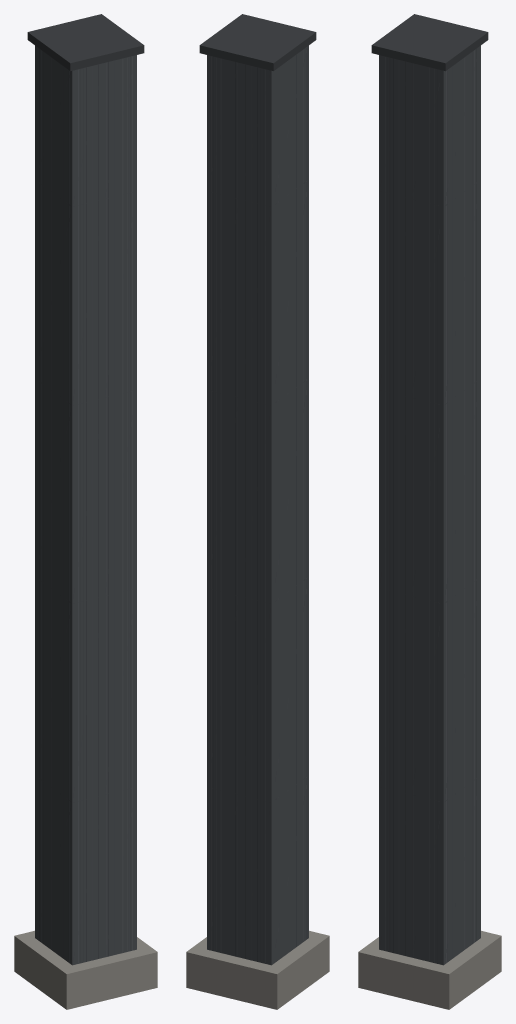
Rendered from MinidoracatKnoxPass_gatepost_B.glb.
3 renders of one model, left to right at view 1: azimuth 30°, elevation 25°; view 2: azimuth 150°, elevation 25°; view 3: azimuth 330°, elevation 25°, orthographic.
Parts seen in each view (by area): view 1: MinidoracatKnoxPass_gatepost_B; view 2: MinidoracatKnoxPass_gatepost_B; view 3: MinidoracatKnoxPass_gatepost_B.
Part boxes in pixels (box(x1,y1,x2,y2)): MinidoracatKnoxPass_gatepost_B: box(14, 14, 157, 1009); MinidoracatKnoxPass_gatepost_B: box(186, 14, 329, 1009); MinidoracatKnoxPass_gatepost_B: box(358, 14, 501, 1009).
Bounding box in the file's own units: 0.48 × 4.74 × 0.48.
Materials: 1 (1 with a texture image).
